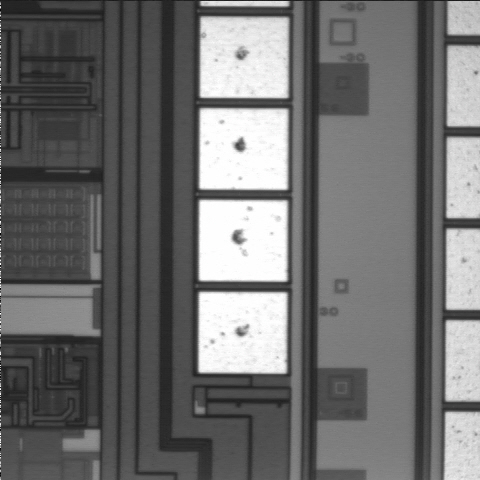pad: (199, 108, 288, 190), (199, 200, 288, 282), (198, 292, 287, 374), (200, 17, 288, 98)
